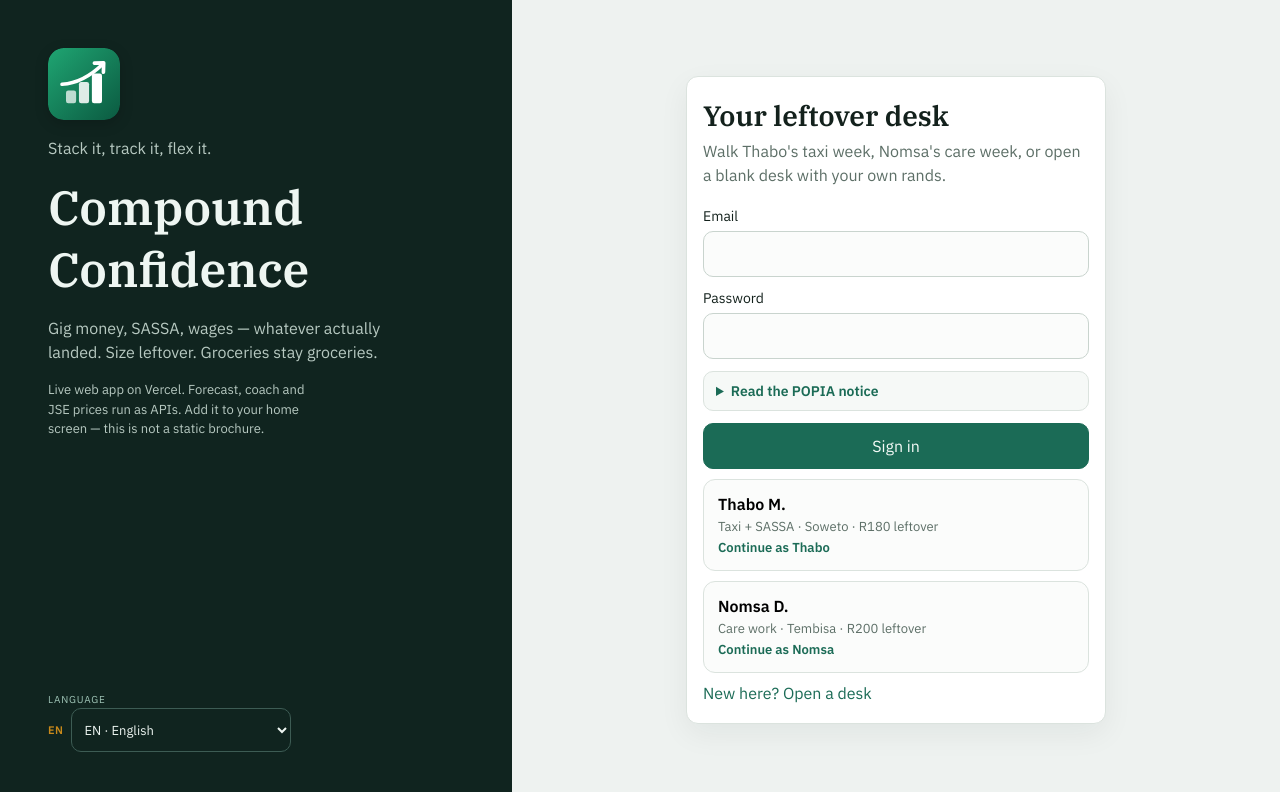
Compound Confidence dashboard › blocks leftover into investments until the lesson is done
Click the button with test id "demo-login" at [896, 525], box top-left (703, 479), bottom-right (1089, 571)
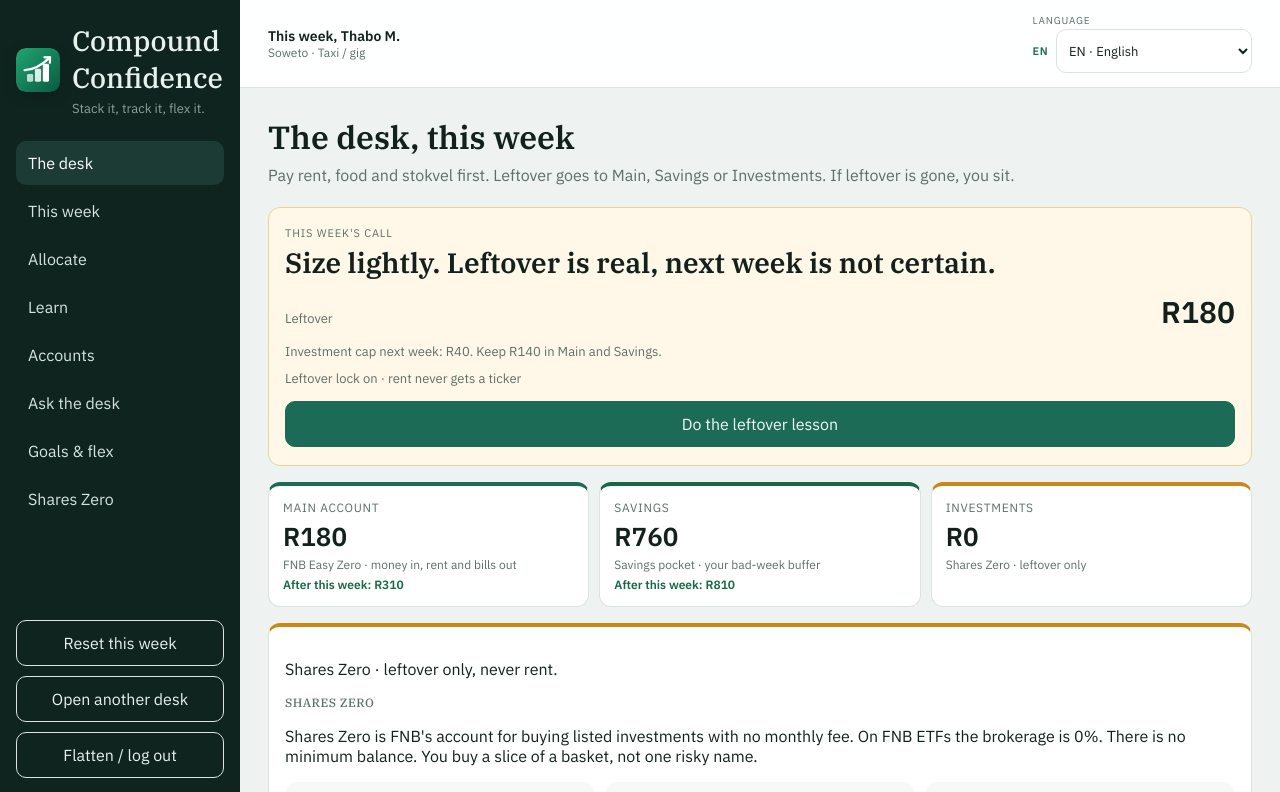
Click the button "Allocate" at [120, 259], box top-left (16, 237), bottom-right (224, 281)
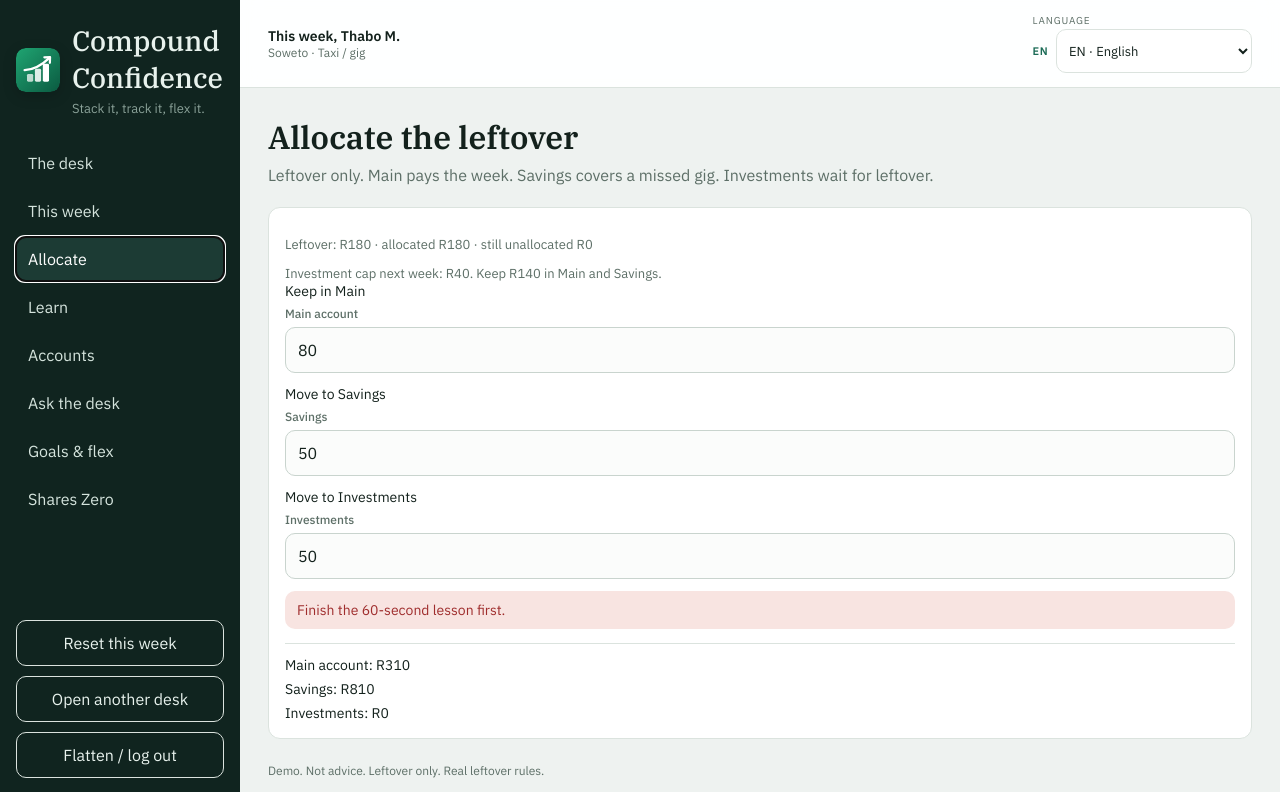
Check: the message with test id "split-status" shows "Finish the 60-second lesson", box top-left (297, 601), bottom-right (505, 619)
